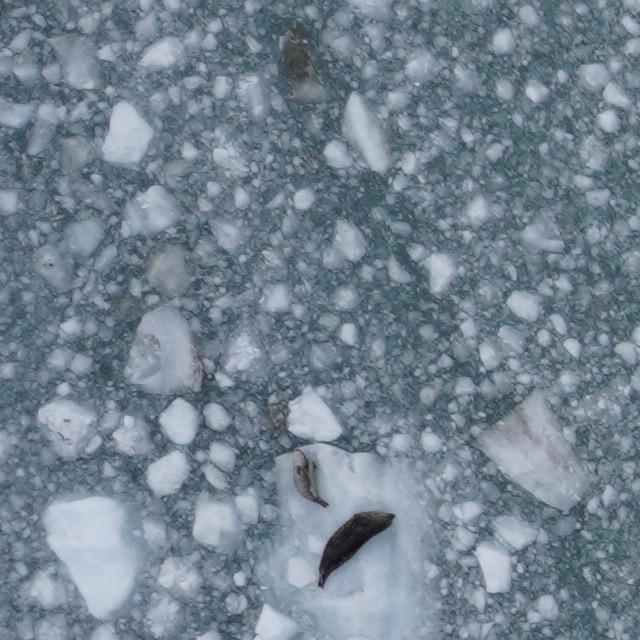seal: (315, 509, 400, 595), (288, 445, 333, 511)
